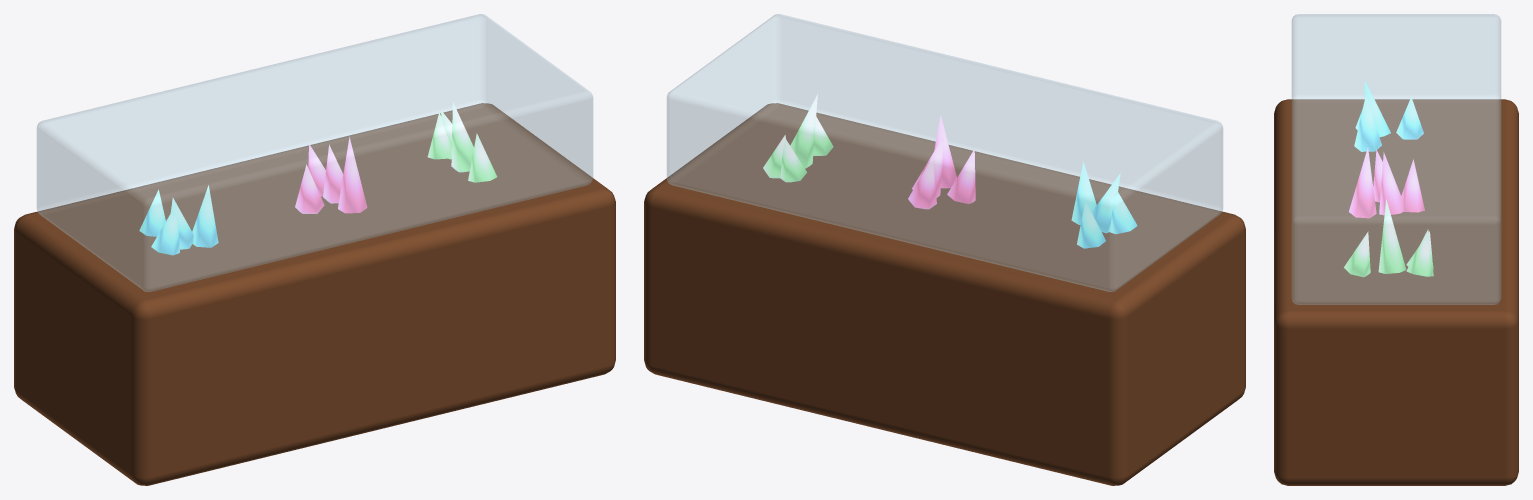
The model's file is case.glb.
The picture shows the model from 3 angles, left to right: view 1: azimuth 30°, elevation 25°; view 2: azimuth 150°, elevation 25°; view 3: azimuth 270°, elevation 25°; orthographic projection. The views are drawn at different scales.
Parts seen in each view (by area): view 1: case; view 2: case; view 3: case.
Boxes of the visible parts, box(x1,y1,x2,y2) form: case: box(14, 14, 615, 485); case: box(644, 14, 1245, 485); case: box(1274, 14, 1518, 485).
Size of the model in its own units: 1.5 by 0.835 by 0.7.
